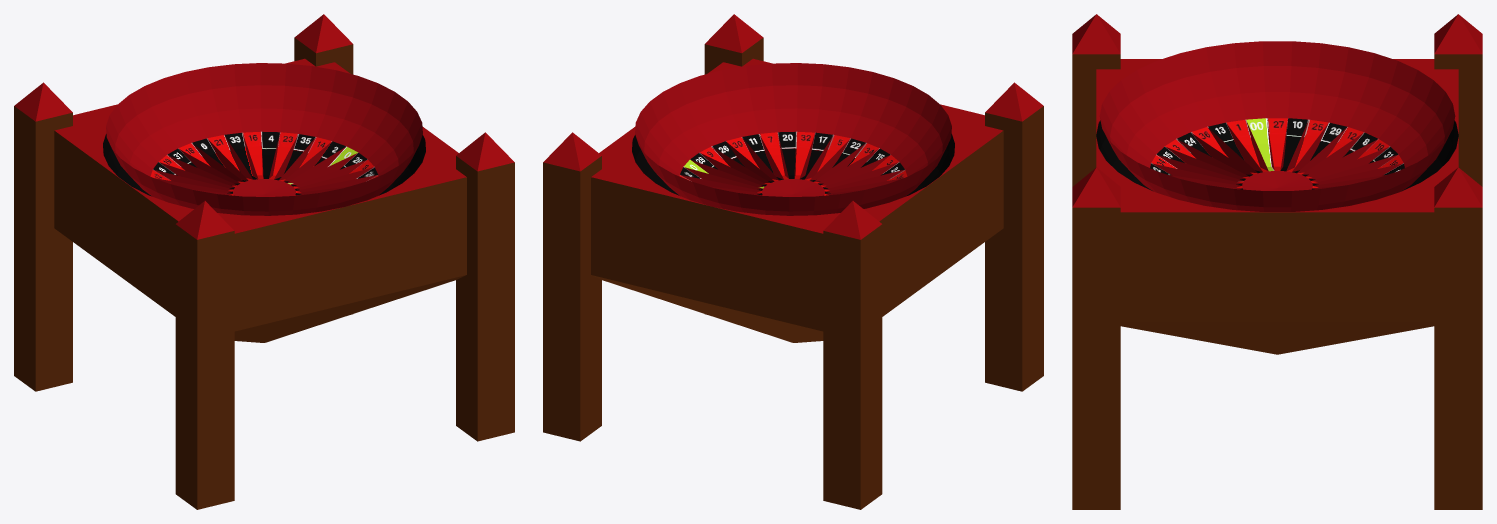
File: Final fucking table.glb
3 renders of one model, left to right at view 1: azimuth 30°, elevation 25°; view 2: azimuth 150°, elevation 25°; view 3: azimuth 270°, elevation 25°, orthographic. The views are drawn at different scales.
Parts seen in each view (by area): view 1: Cube, Sphere; view 2: Cube, Sphere; view 3: Cube, Sphere.
Boxes of the visible parts, x1,y1,x2,y2 form: Cube: (14, 14, 514, 509); Sphere: (106, 63, 422, 215); Cube: (543, 14, 1043, 509); Sphere: (635, 63, 951, 215); Cube: (1072, 14, 1482, 509); Sphere: (1099, 41, 1455, 211).
Size of the model in its own units: 3.4 by 3.04 by 3.39.
5 materials, 1 textured.
